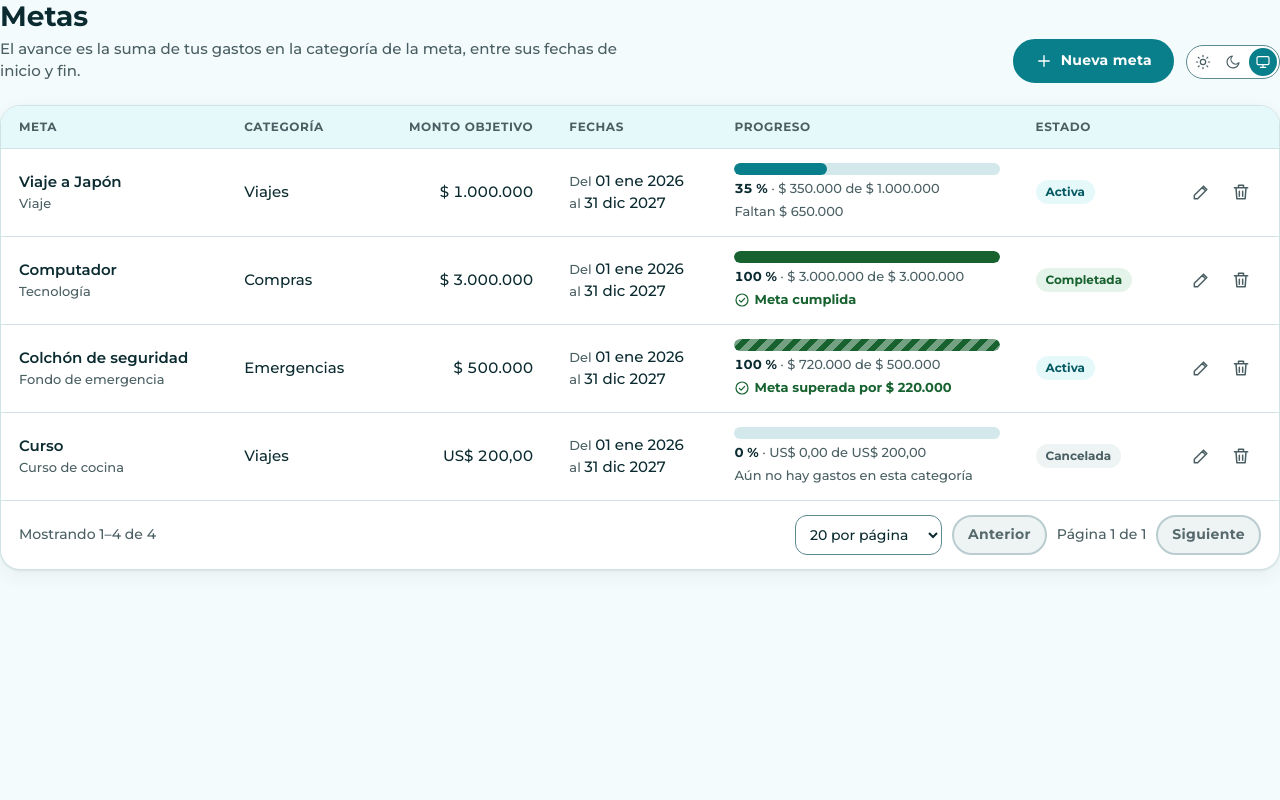
Test: Metas: create › validates before sending
Check: the text "Viaje a Japón" is shown, box [19,172,122,191]
Click the button "Nueva meta": click(1093, 61) [1013,39,1174,83]
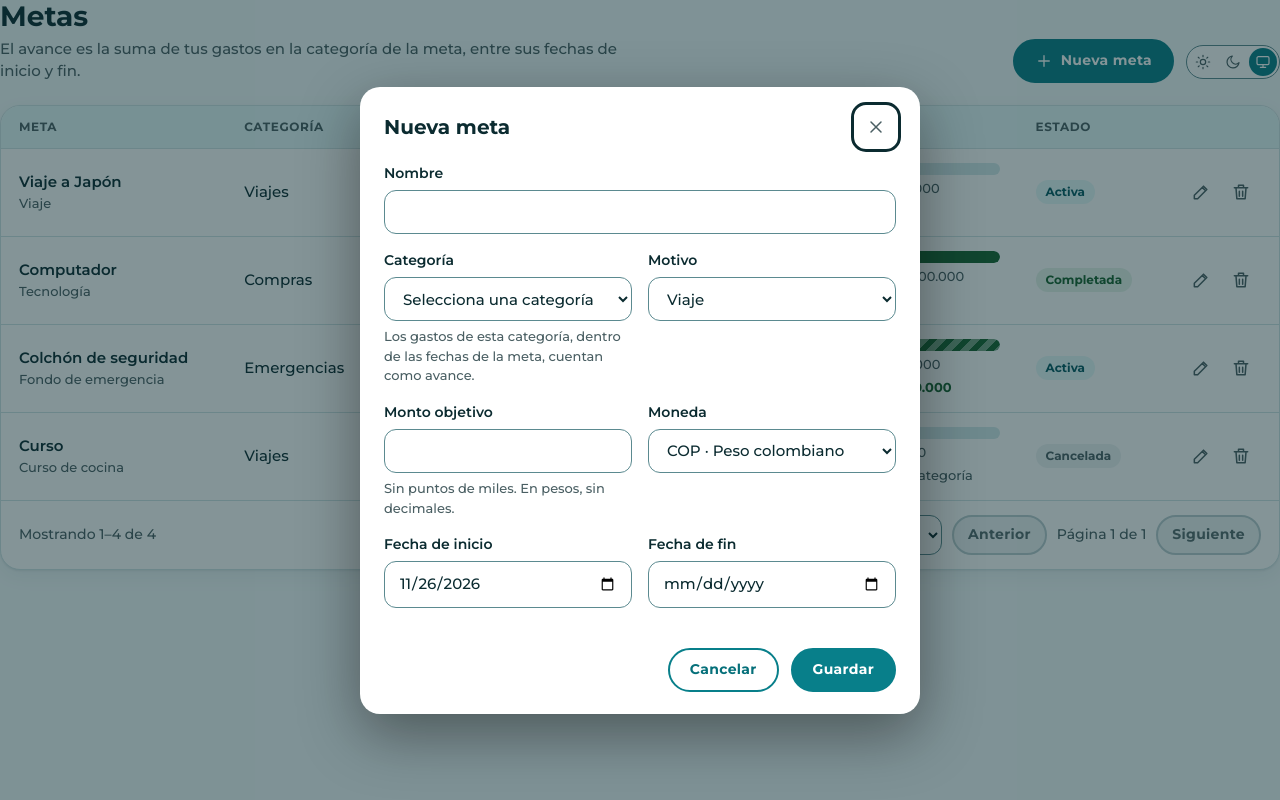
Click the button "Guardar": click(843, 670) [791,648,896,692]
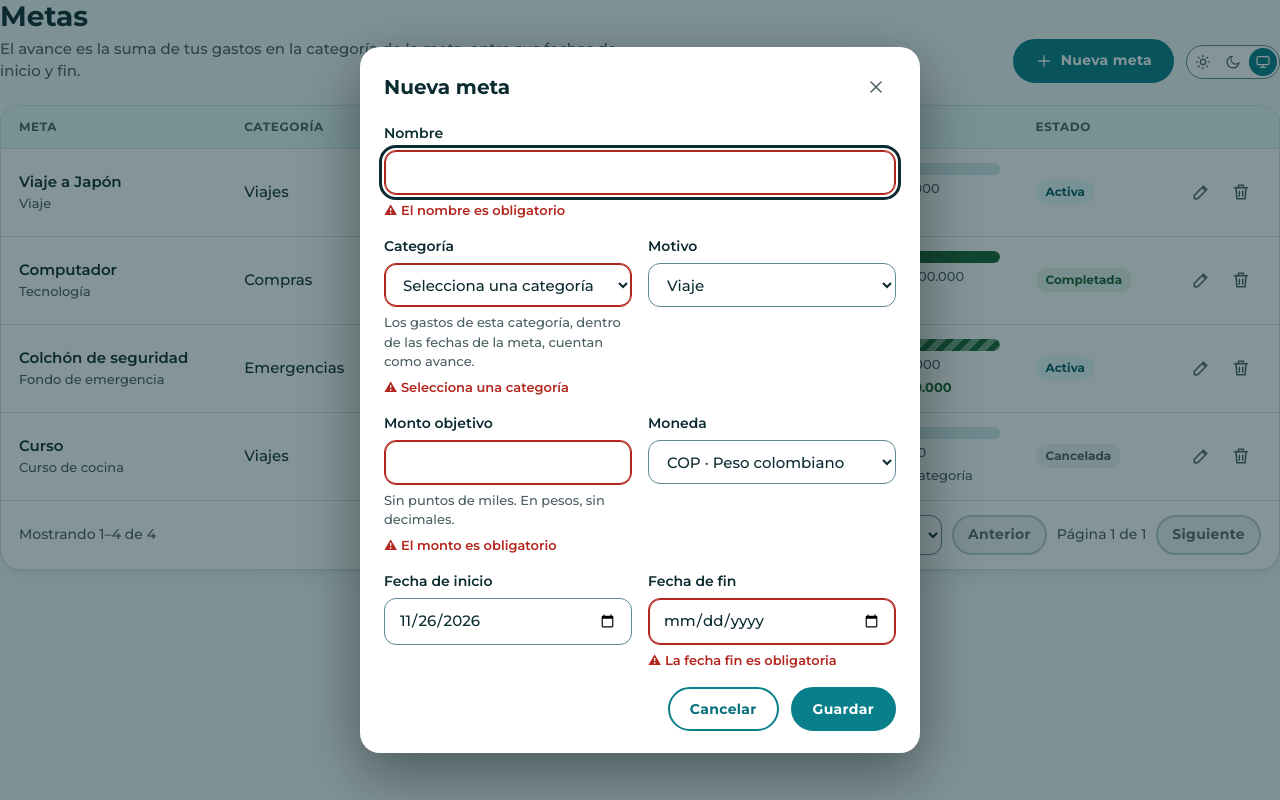
Check: the text "El nombre es obligatorio" is shown, box [401,202,565,218]
Check: the message "Selecciona una categoría" is shown, box [401,378,569,394]
Check: the text "El monto es obligatorio" is shown, box [401,536,556,552]
